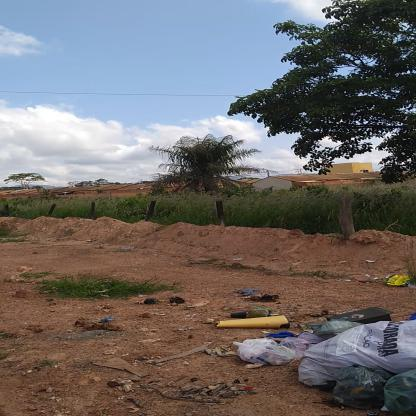lixo: (214, 303, 416, 409)
